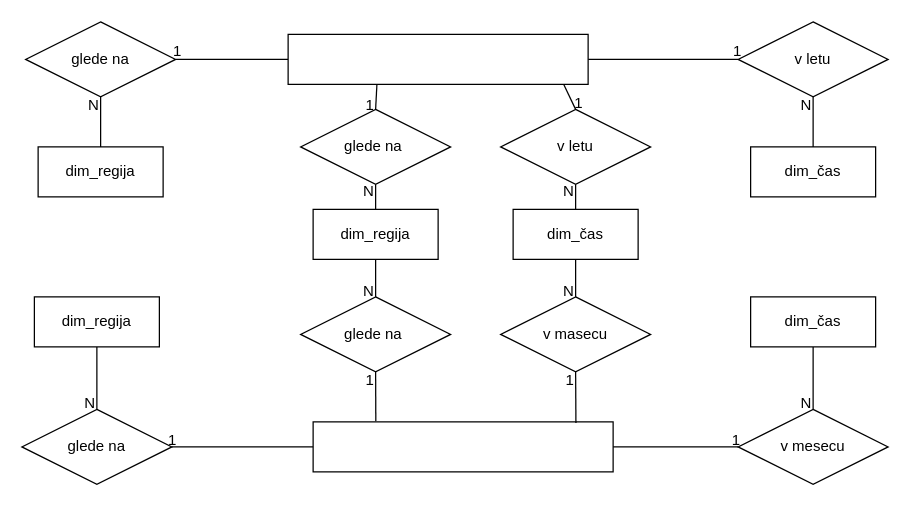
This 910x506 diagram has some shape labels left out. The box of each missing label's shape, as (x1, y1, x2, y2) in pixels:
fact_bdp_podjetja_brezposelnost: (287, 33, 588, 84)
fact_gradbeništvo_velikosti nepremičnin: (312, 421, 613, 472)
